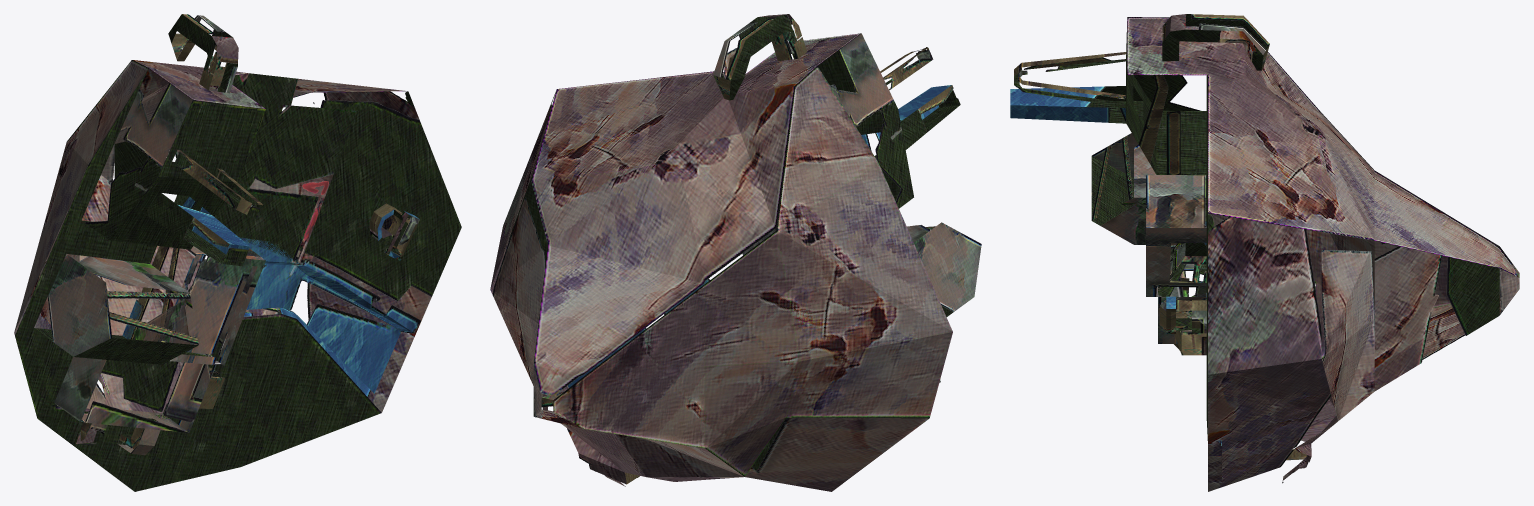
Rendered from island.dae.
3 renders of one model, left to right at view 1: azimuth 30°, elevation 25°; view 2: azimuth 150°, elevation 25°; view 3: azimuth 270°, elevation 25°, orthographic. The views are drawn at different scales.
Visible parts, largest first — view 1: Cube; view 2: Cube; view 3: Cube.
Part boxes in pixels (<box>): Cube: <box>14,14,461,491</box>; Cube: <box>490,14,981,491</box>; Cube: <box>1010,14,1519,491</box>.
Size of the model in its own units: 5.72 by 6.12 by 5.54.
Materials: 1 (1 with a texture image).
